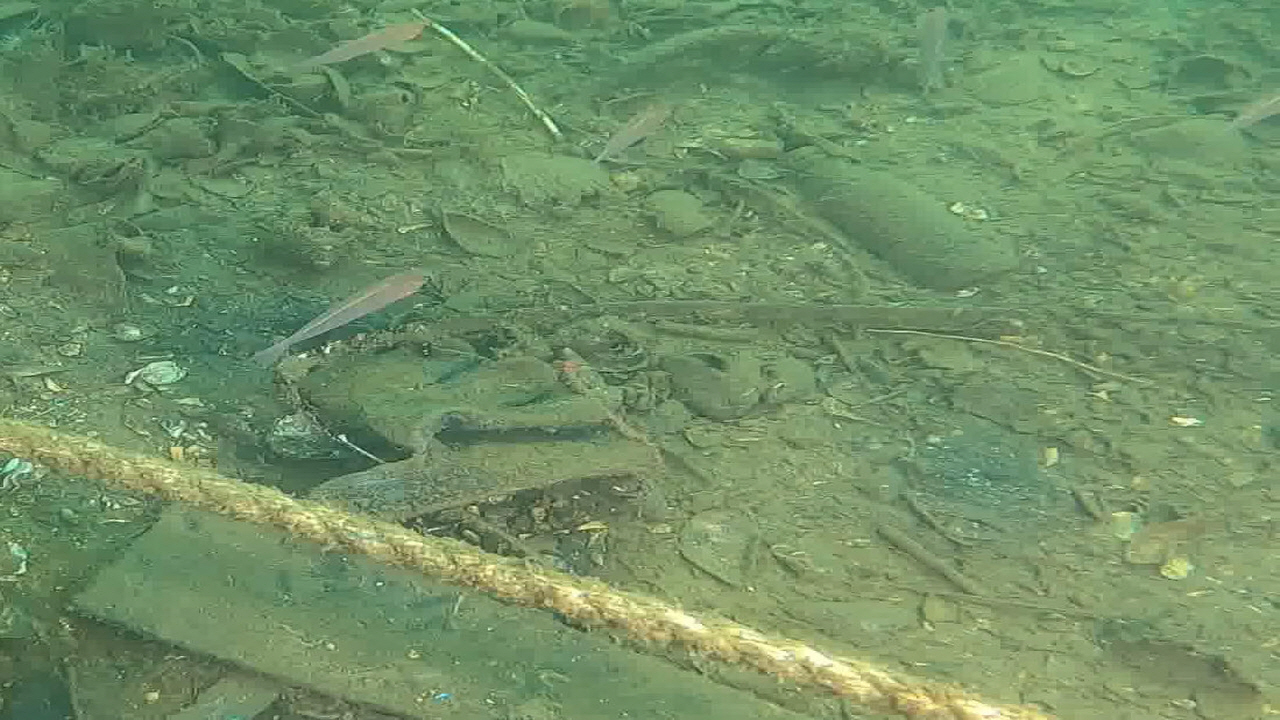rope: (1, 411, 1047, 720)
